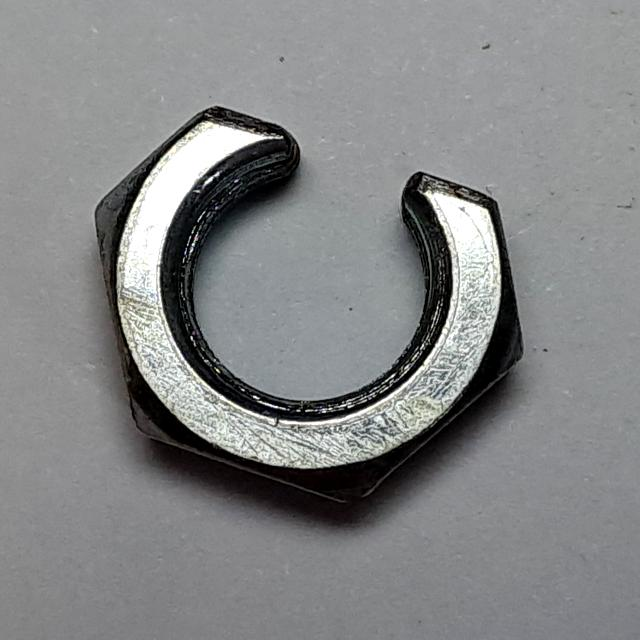Fracture: (83, 87, 537, 520)
